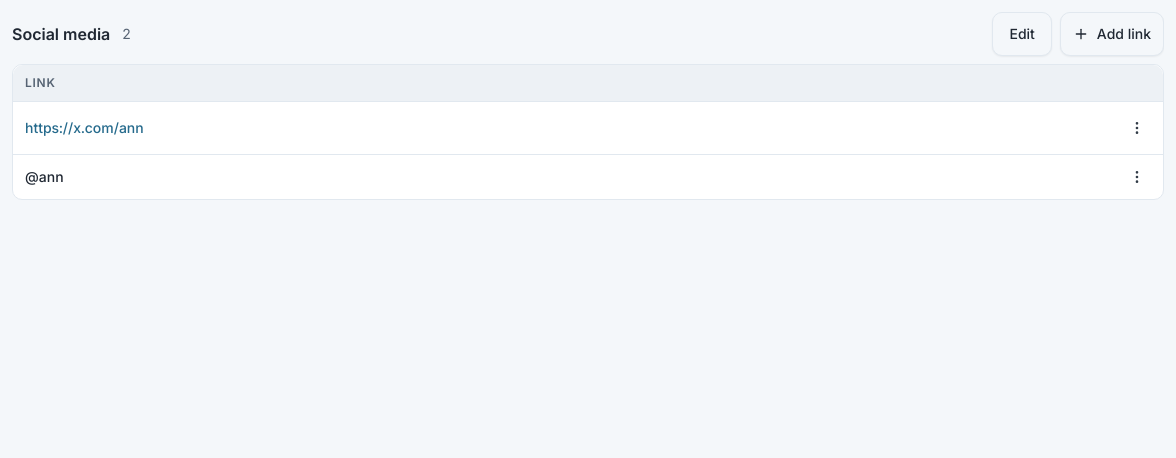
SocialSection: read-view entry points › Add link opens edit with one new row: focus on its url input, "New · not saved"
Click the button "Add link" at (1112, 34), box [1060,12,1164,56]
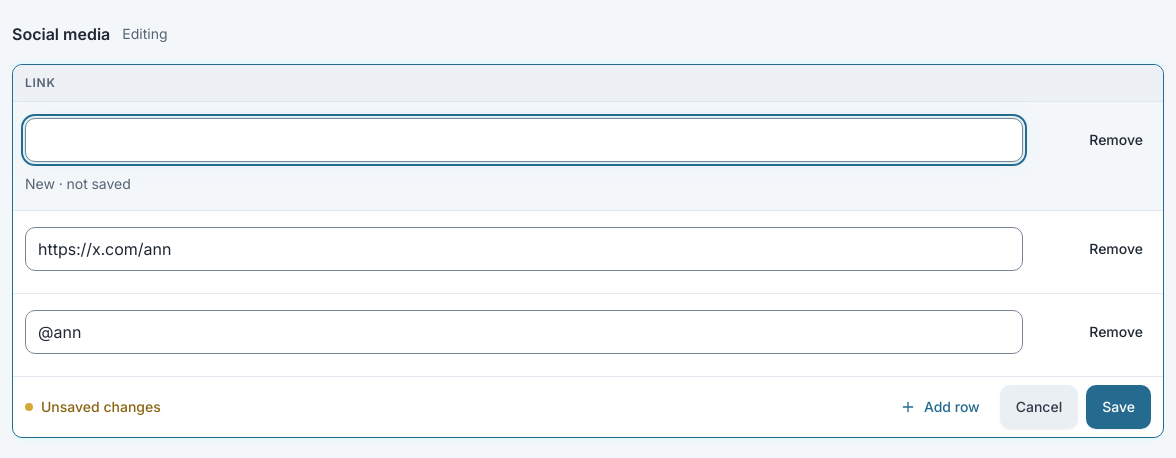
expect the 1st field labelled "Link" is empty: met, box [25,118,1023,162]
expect the text "New · not saved" is shown: met, box [25,174,131,192]
